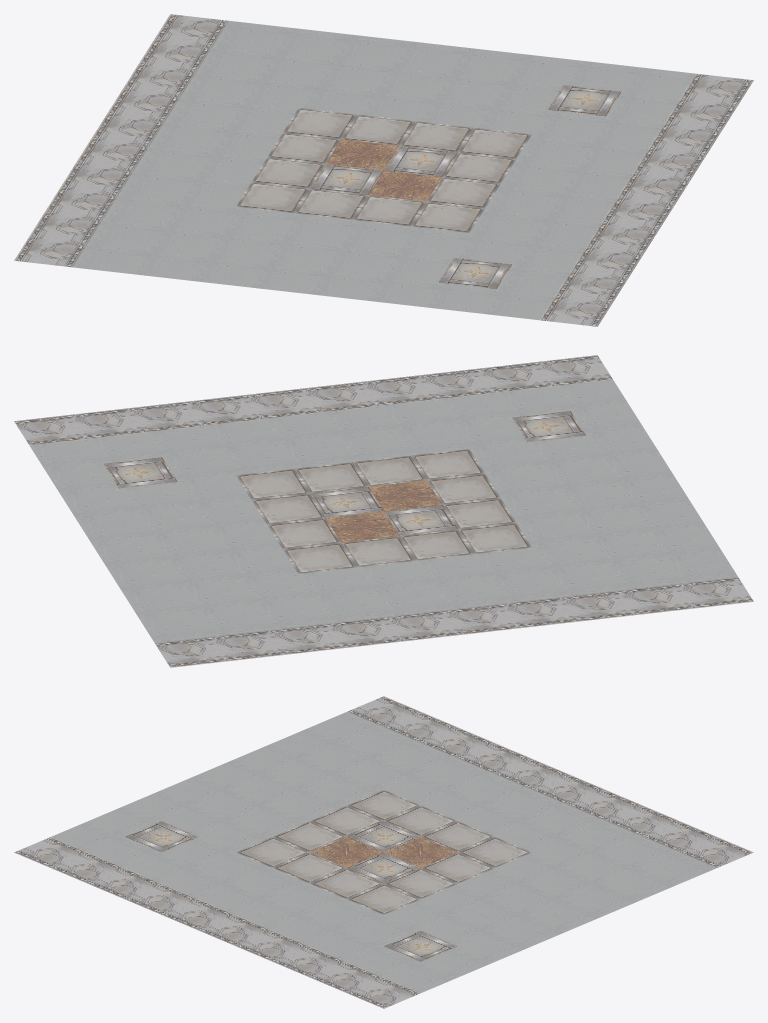
Rendered from Room001_Floor.fbx.
The picture shows the model from 3 angles, top to bottom: view 1: azimuth 30°, elevation 25°; view 2: azimuth 150°, elevation 25°; view 3: azimuth 270°, elevation 25°; orthographic projection. The views are drawn at different scales.
Parts seen in each view (by area): view 1: Brick_04009 (×3), Brick_04004 (×2), Brick_04001 (×2), Brick_04007 (×2), Brick_04011 (×2), Brick_04008 (×2), Brick_04006 (×2), Brick_04000 (×2), Brick_04010 (×2), Brick_04005 (×2), Brick_04003 (×2), Brick_04002 (×2) (+75 smaller); view 2: Brick_04009 (×3), Brick_04005 (×2), Brick_04004 (×2), Brick_04002 (×2), Brick_04008 (×2), Brick_04007 (×2), Brick_04010 (×2), Brick_04011 (×2), Brick_04000 (×2), Brick_04001 (×2), Brick_04006 (×2), Brick_04003 (×2) (+75 smaller); view 3: Brick_04009 (×3), Brick_04008 (×2), Brick_04007 (×2), Brick_04002 (×2), Brick_04010 (×2), Brick_04011 (×2), Brick_04005 (×2), Brick_04004 (×2), Brick_04001 (×2), Brick_04003 (×2), Brick_04006 (×2), Brick_04000 (×2) (+75 smaller).
Part boxes in pixels (box(x1,y1,x2,y2)): Brick_04009 (×3): box(155, 14, 612, 326); Brick_04004 (×2): box(77, 137, 325, 188); Brick_04001 (×2): box(30, 195, 426, 242); Brick_04007 (×2): box(124, 63, 414, 145); Brick_04011 (×2): box(427, 177, 643, 277); Brick_04008 (×2): box(139, 39, 473, 152); Brick_04006 (×2): box(108, 88, 356, 138); Brick_04000 (×2): box(14, 202, 484, 267); Brick_04010 (×2): box(442, 152, 628, 301); Brick_04005 (×2): box(92, 113, 340, 163); Brick_04003 (×2): box(61, 162, 309, 212); Brick_04002 (×2): box(45, 187, 367, 219); Brick_04009 (×3): box(155, 355, 612, 667); Brick_04005 (×2): box(341, 536, 461, 641); Brick_04004 (×2): box(400, 529, 520, 634); Brick_04002 (×2): box(442, 498, 636, 621); Brick_04008 (×2): box(213, 493, 325, 661); Brick_04007 (×2): box(267, 518, 344, 654); Brick_04010 (×2): box(294, 361, 554, 493); Brick_04011 (×2): box(353, 368, 496, 486); Brick_04000 (×2): box(411, 449, 753, 608); Brick_04001 (×2): box(427, 473, 694, 614); Brick_04006 (×2): box(283, 543, 403, 647); Brick_04003 (×2): box(458, 523, 578, 627); Brick_04009 (×3): box(14, 837, 753, 914); Brick_04008 (×2): box(384, 821, 716, 899); Brick_04007 (×2): box(421, 805, 679, 883); Brick_04002 (×2): box(310, 727, 494, 836); Brick_04010 (×2): box(51, 852, 383, 899); Brick_04011 (×2): box(88, 852, 346, 899); Brick_04005 (×2): box(421, 774, 605, 852); Brick_04004 (×2): box(384, 759, 568, 836); Brick_04001 (×2): box(273, 712, 457, 852); Brick_04003 (×2): box(347, 743, 531, 820); Brick_04006 (×2): box(458, 790, 642, 867); Brick_04000 (×2): box(236, 696, 420, 867).
Size of the model in its own units: 5940 by 3.64e-14 by 5940.
5 materials, 5 textured.
